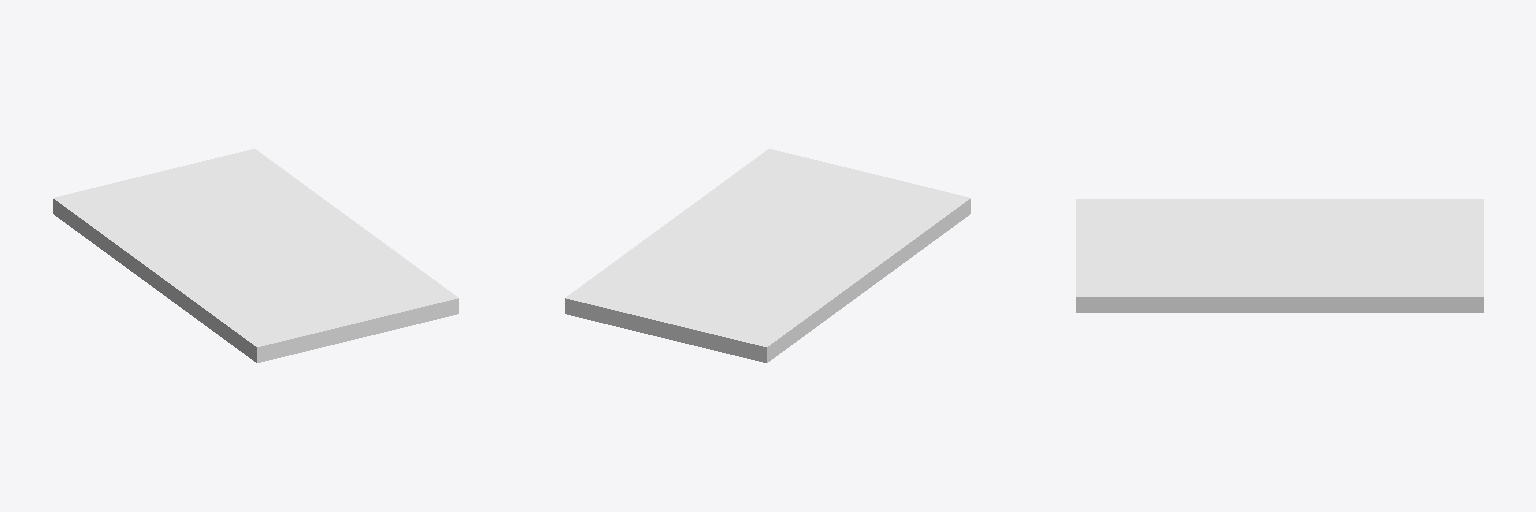
The model's file is Road.obj.
The picture shows the model from 3 angles: view 1: azimuth 30°, elevation 25°; view 2: azimuth 150°, elevation 25°; view 3: azimuth 270°, elevation 25°; orthographic projection.
Visible parts, largest first — view 1: Road; view 2: Road; view 3: Road.
Boxes of the visible parts, box(x1,y1,x2,y2) form: Road: box(53, 149, 458, 362); Road: box(565, 149, 970, 362); Road: box(1076, 199, 1483, 312).
Size of the model in its own units: 40 by 3 by 70.